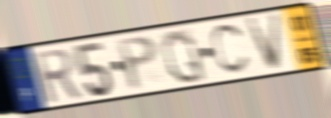5: (71, 38, 114, 98)
C: (210, 21, 252, 77)
P: (115, 33, 160, 93)
Q: (160, 27, 208, 85)
R: (30, 47, 84, 106)
V: (244, 11, 284, 73)
